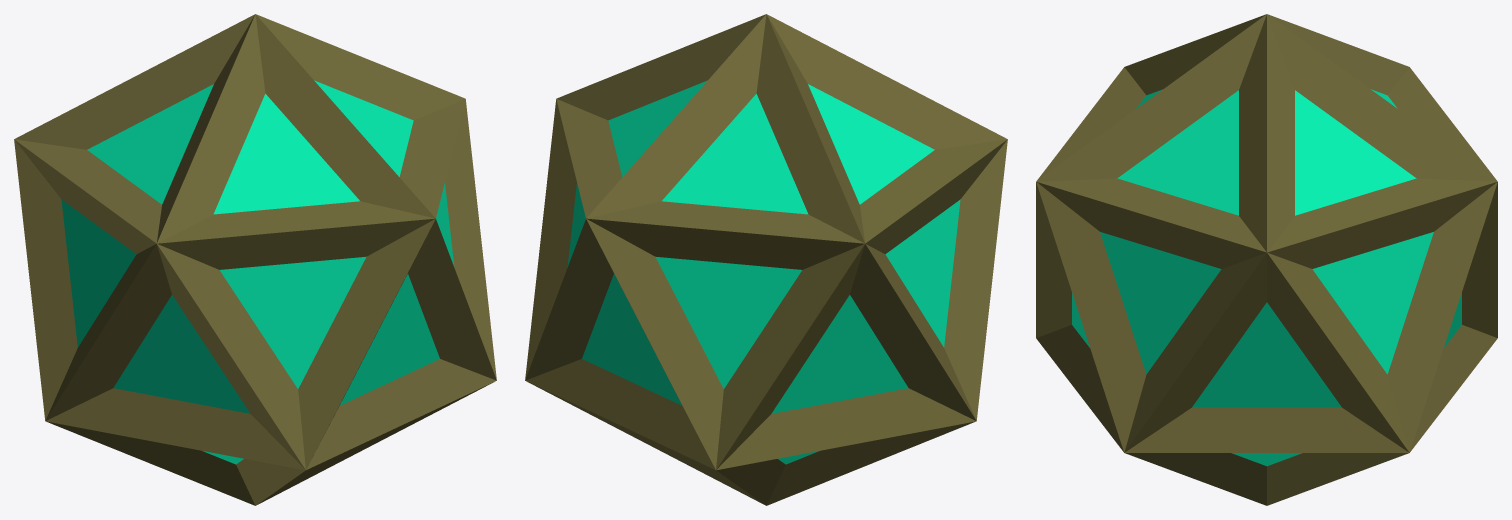
The model's file is VentusEssence.fbx.
3 views of the same model, side by side, from view 1: azimuth 30°, elevation 25°; view 2: azimuth 150°, elevation 25°; view 3: azimuth 270°, elevation 25° (orthographic).
Visible parts, largest first — view 1: Icosphere; view 2: Icosphere; view 3: Icosphere.
Boxes of the visible parts, bbox=[...] form: Icosphere: bbox=[14, 14, 496, 505]; Icosphere: bbox=[525, 14, 1007, 505]; Icosphere: bbox=[1036, 14, 1497, 505].
Bounding box in the file's own units: 179 × 200 × 170.
